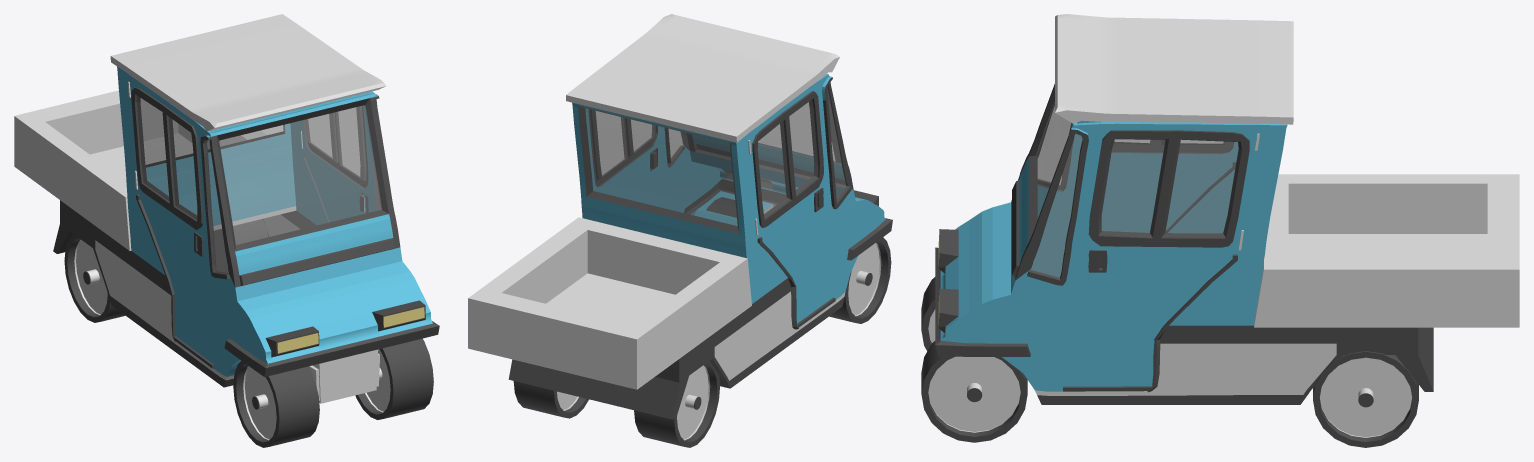
File: Car.Placeholder.fbx
3 views of the same model, side by side, from view 1: azimuth 30°, elevation 25°; view 2: azimuth 150°, elevation 25°; view 3: azimuth 270°, elevation 25° (orthographic). The views are drawn at different scales.
Parts seen in each view (by area): view 1: ClubCarMaster; view 2: ClubCarMaster; view 3: ClubCarMaster.
Part boxes in pixels (x1=…): ClubCarMaster: x1=14, y1=14, x2=439, y2=447; ClubCarMaster: x1=468, y1=14, x2=892, y2=447; ClubCarMaster: x1=921, y1=14, x2=1519, y2=447.
Bounding box in the file's own units: 35.99 × 58.56 × 93.44.
